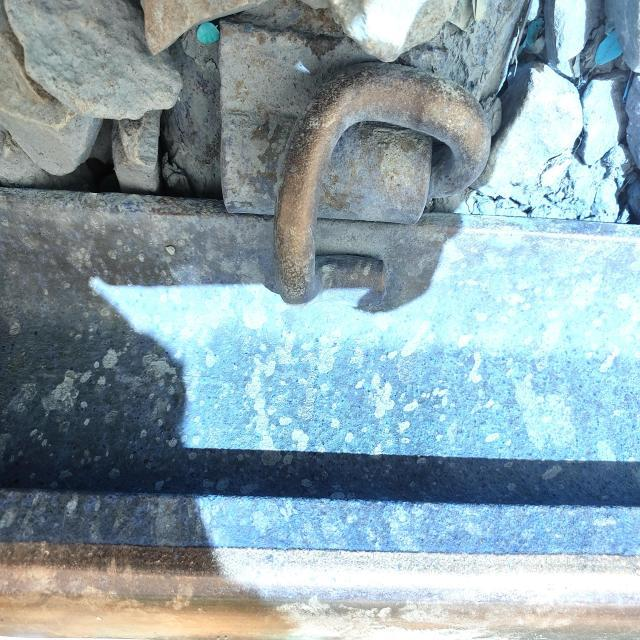Good Fasteners: (219, 20, 491, 311)
